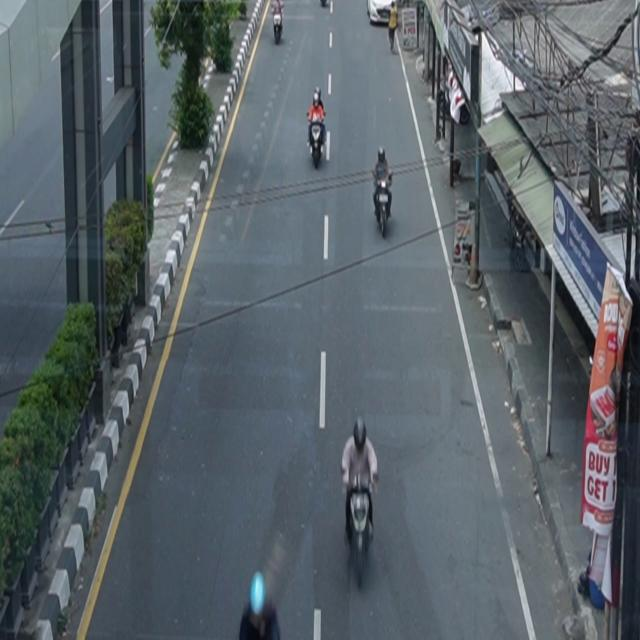car: (368, 1, 397, 26)
